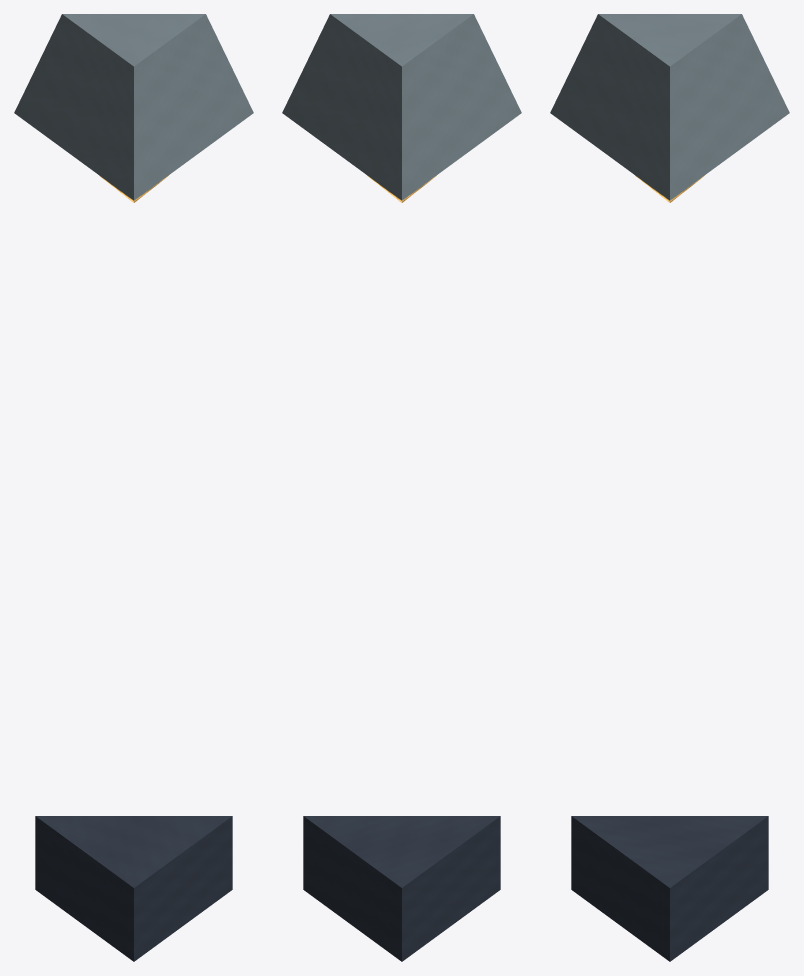
Rendered from atlas100-basalt-util01.lod2.glb.
3 renders of one model, left to right at view 1: azimuth 30°, elevation 25°; view 2: azimuth 150°, elevation 25°; view 3: azimuth 270°, elevation 25°, orthographic.
Parts seen in each view (by area): view 1: atlas100-basalt-util01:part-002, atlas100-basalt-util01:part-000; view 2: atlas100-basalt-util01:part-002, atlas100-basalt-util01:part-000; view 3: atlas100-basalt-util01:part-002, atlas100-basalt-util01:part-000.
Boxes of the visible parts, x1,y1,x2,y2 form: atlas100-basalt-util01:part-002: (14, 14, 253, 200); atlas100-basalt-util01:part-000: (35, 816, 232, 961); atlas100-basalt-util01:part-002: (282, 14, 521, 200); atlas100-basalt-util01:part-000: (303, 816, 500, 961); atlas100-basalt-util01:part-002: (550, 14, 789, 200); atlas100-basalt-util01:part-000: (571, 816, 768, 961).
Bounding box in the file's own units: 0.5217 × 2.44 × 0.6024.
Materials: 3 (3 with a texture image).
